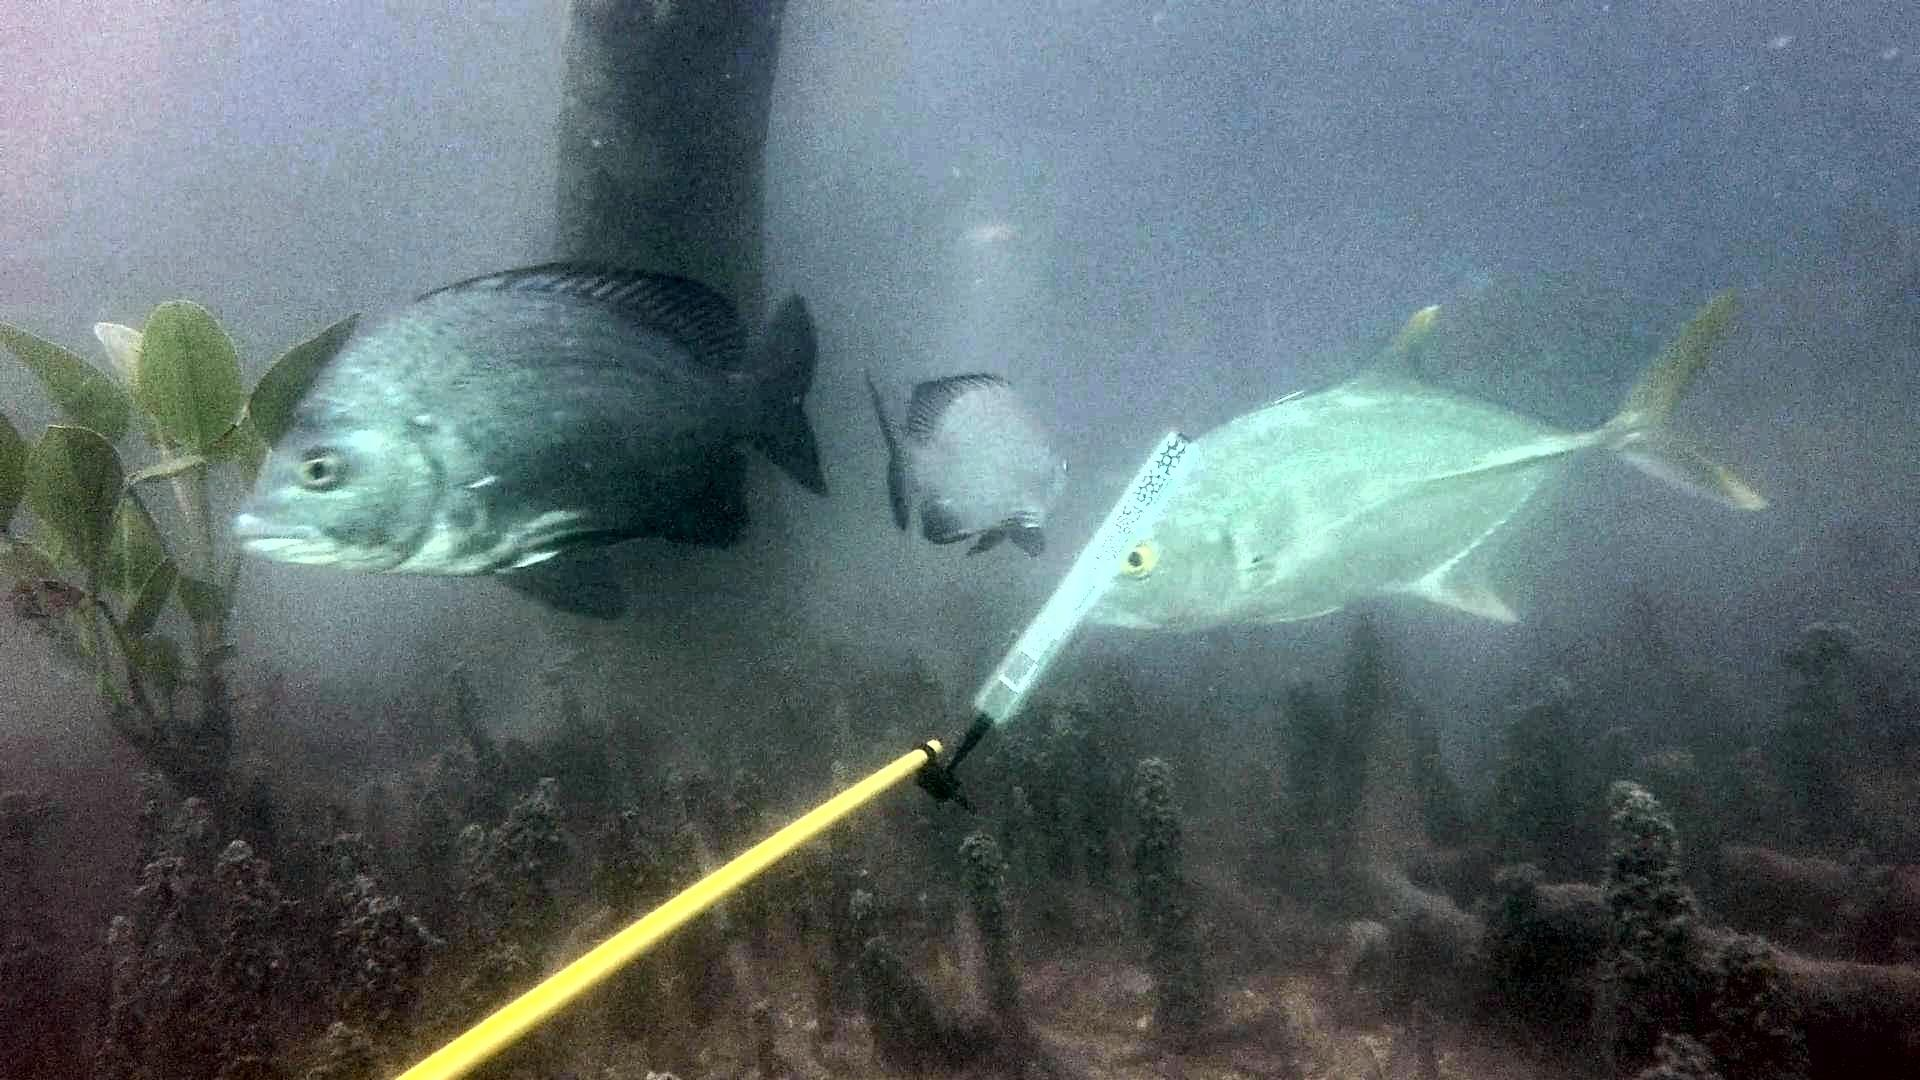acanthopagrus palmaris: (231, 240, 832, 638), (845, 348, 1071, 570)
caranx: (1091, 295, 1776, 644)
